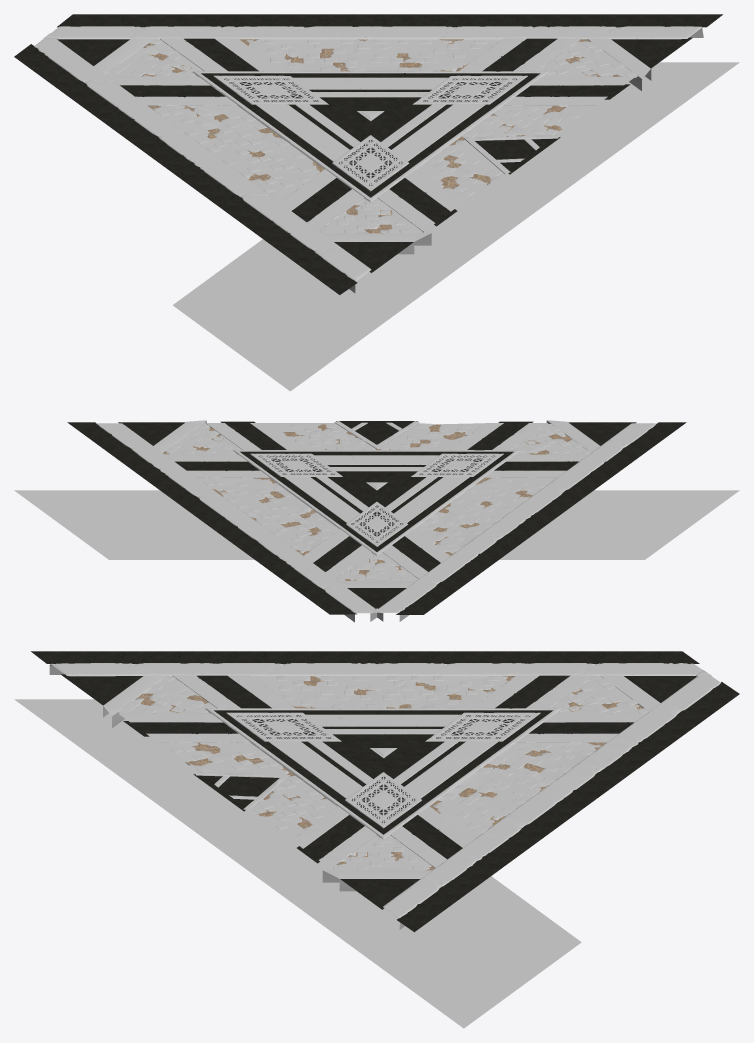
3 views of the same model, one above another, from view 1: azimuth 30°, elevation 25°; view 2: azimuth 150°, elevation 25°; view 3: azimuth 270°, elevation 25° (orthographic). The views are drawn at different scales.
Parts seen in each view (by area): view 1: SM_Nightmare_Crucible_Arena_Side_SectionB_01v1_LOD0; view 2: SM_Nightmare_Crucible_Arena_Side_SectionB_01v1_LOD0; view 3: SM_Nightmare_Crucible_Arena_Side_SectionB_01v1_LOD0.
Part boxes in pixels (x1,y1,x2,y2): SM_Nightmare_Crucible_Arena_Side_SectionB_01v1_LOD0: (14,14,739,391); SM_Nightmare_Crucible_Arena_Side_SectionB_01v1_LOD0: (14,420,739,622); SM_Nightmare_Crucible_Arena_Side_SectionB_01v1_LOD0: (14,651,739,1028).
Size of the model in its own units: 114 by 12.61 by 107.
